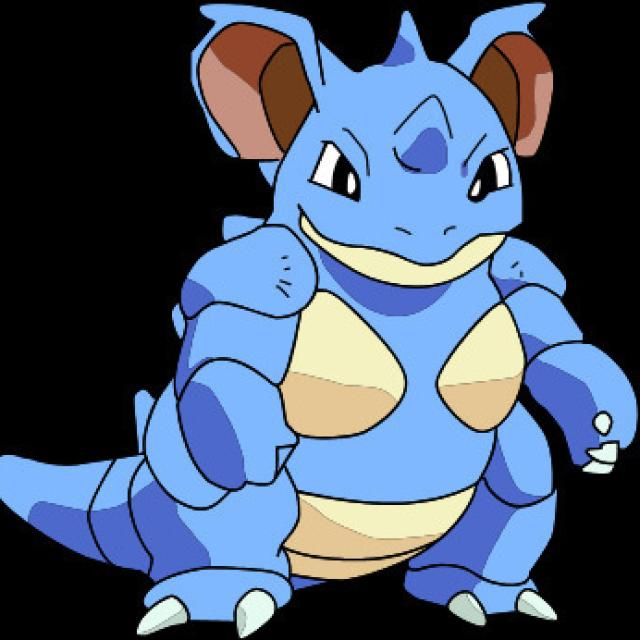Nidoqueen: (31, 0, 631, 640)
